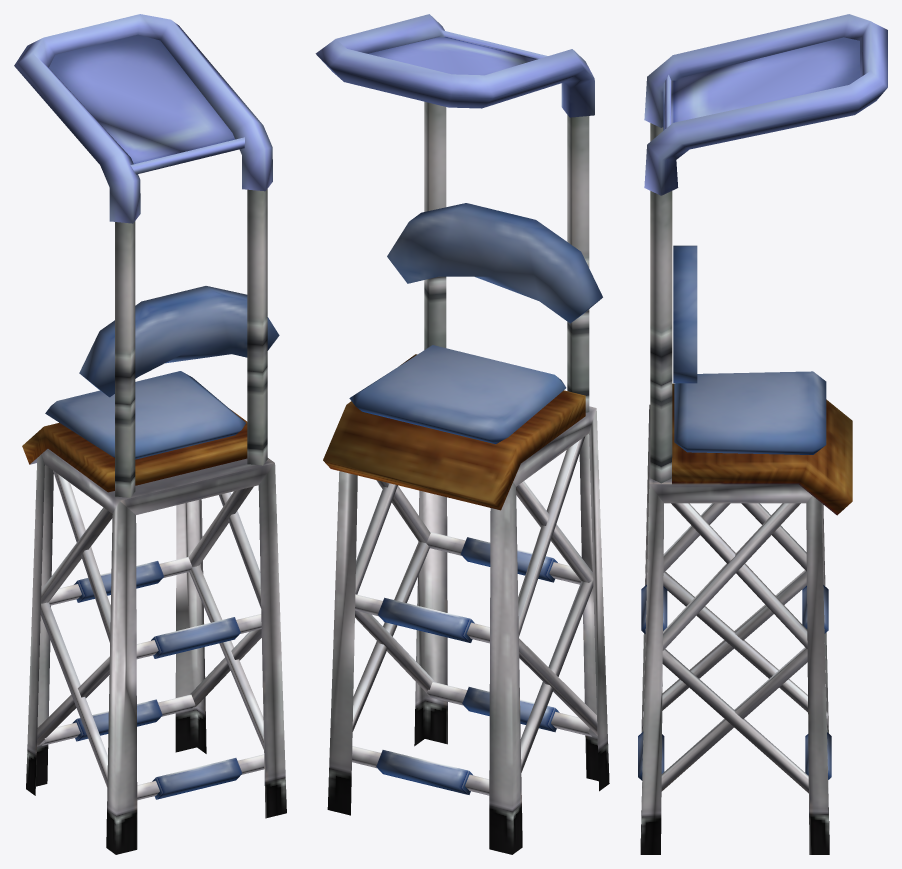
Rendered from a_SEswim03.glb.
3 renders of one model, left to right at view 1: azimuth 30°, elevation 25°; view 2: azimuth 150°, elevation 25°; view 3: azimuth 270°, elevation 25°, orthographic. The views are drawn at different scales.
Visible parts, largest first — view 1: a_SEswim03; view 2: a_SEswim03; view 3: a_SEswim03.
Part boxes in pixels (<box>): a_SEswim03: <box>14,14,286,854</box>; a_SEswim03: <box>315,14,609,854</box>; a_SEswim03: <box>638,14,887,854</box>.
Size of the model in its own units: 0.7038 by 2.59 by 0.7669.
1 material, 1 textured.
